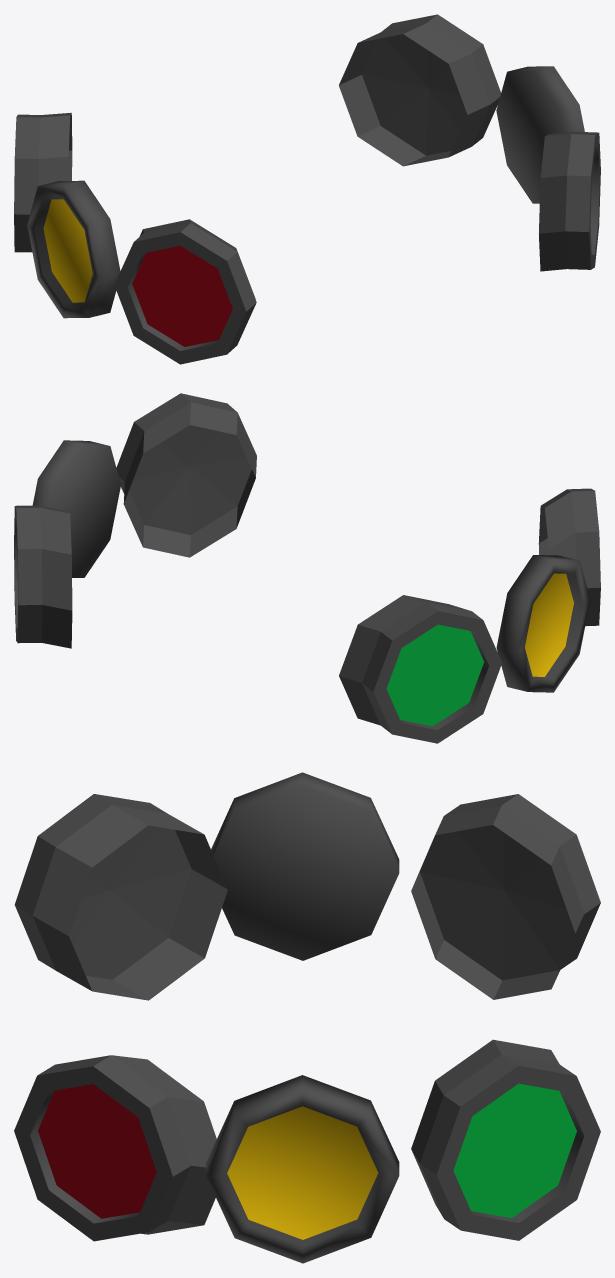
The model's file is TrafficLights.fbx.
The picture shows the model from 3 angles, top to bottom: view 1: azimuth 30°, elevation 25°; view 2: azimuth 150°, elevation 25°; view 3: azimuth 270°, elevation 25°; orthographic projection. The views are drawn at different scales.
Visible parts, largest first — view 1: pCylinder4; view 2: pCylinder4; view 3: pCylinder4.
Boxes of the visible parts, left/top/right/bottom form: pCylinder4: left=14, top=14, right=600, bottom=364; pCylinder4: left=14, top=393, right=600, bottom=743; pCylinder4: left=14, top=772, right=600, bottom=1263.
Size of the model in its own units: 5.3 by 1.51 by 4.16.
